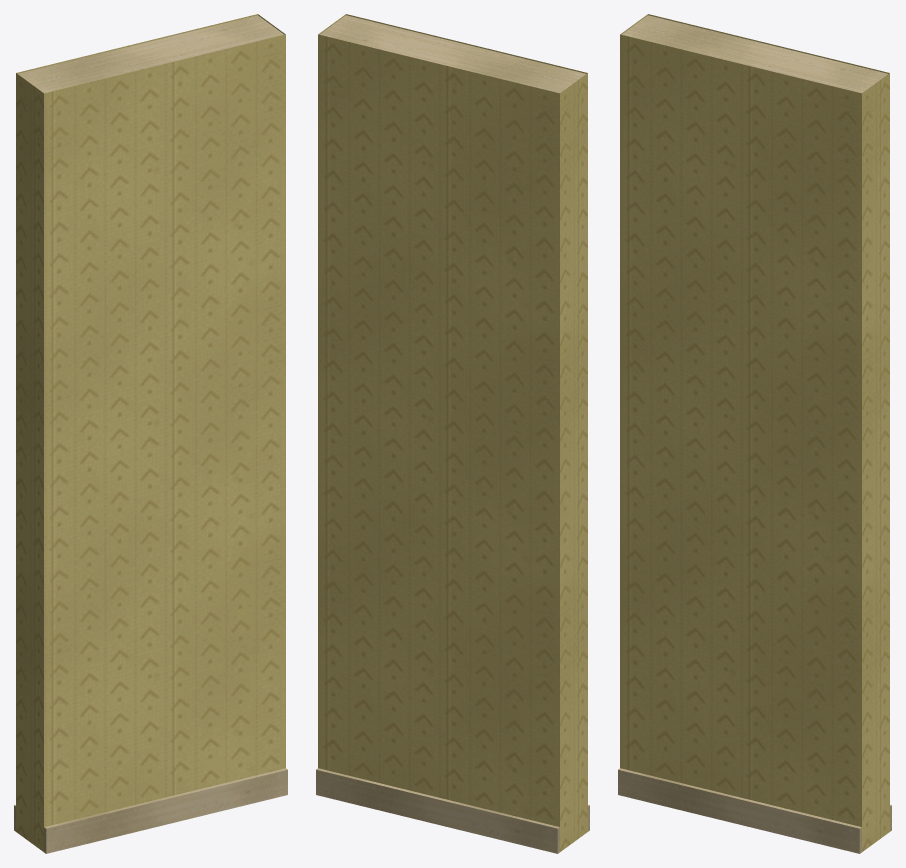
Rendered from back_wall_half.obj.
The picture shows the model from 3 angles, left to right: view 1: azimuth 30°, elevation 25°; view 2: azimuth 150°, elevation 25°; view 3: azimuth 330°, elevation 25°; orthographic projection.
Parts seen in each view (by area): view 1: back_wall_half_wall, back_wall_half_trim; view 2: back_wall_half_wall, back_wall_half_trim; view 3: back_wall_half_wall, back_wall_half_trim.
Boxes of the visible parts, x1,y1,x2,y2 form: back_wall_half_wall: [16, 14, 285, 851]; back_wall_half_trim: [14, 15, 287, 853]; back_wall_half_wall: [318, 14, 587, 851]; back_wall_half_trim: [316, 15, 589, 853]; back_wall_half_wall: [620, 14, 889, 851]; back_wall_half_trim: [618, 15, 891, 853].
Bounding box in the file's own units: 1 × 3 × 0.23.
Materials: 2 (2 with a texture image).
